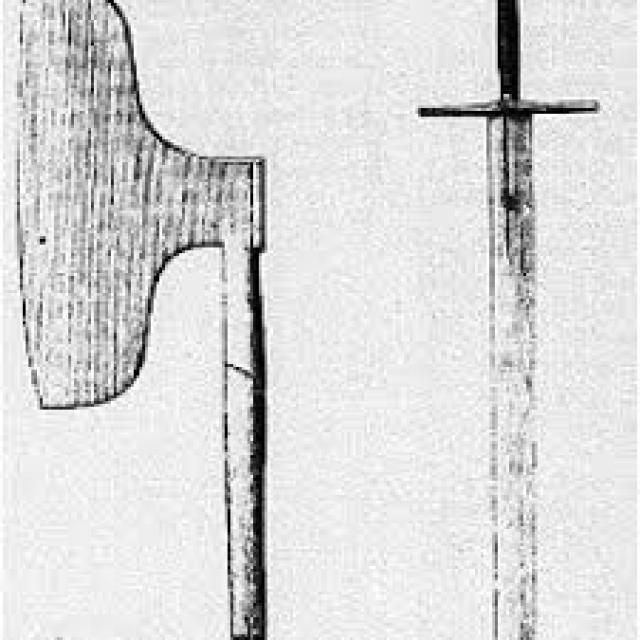Gun: (4, 0, 332, 640), (387, 0, 640, 640)
